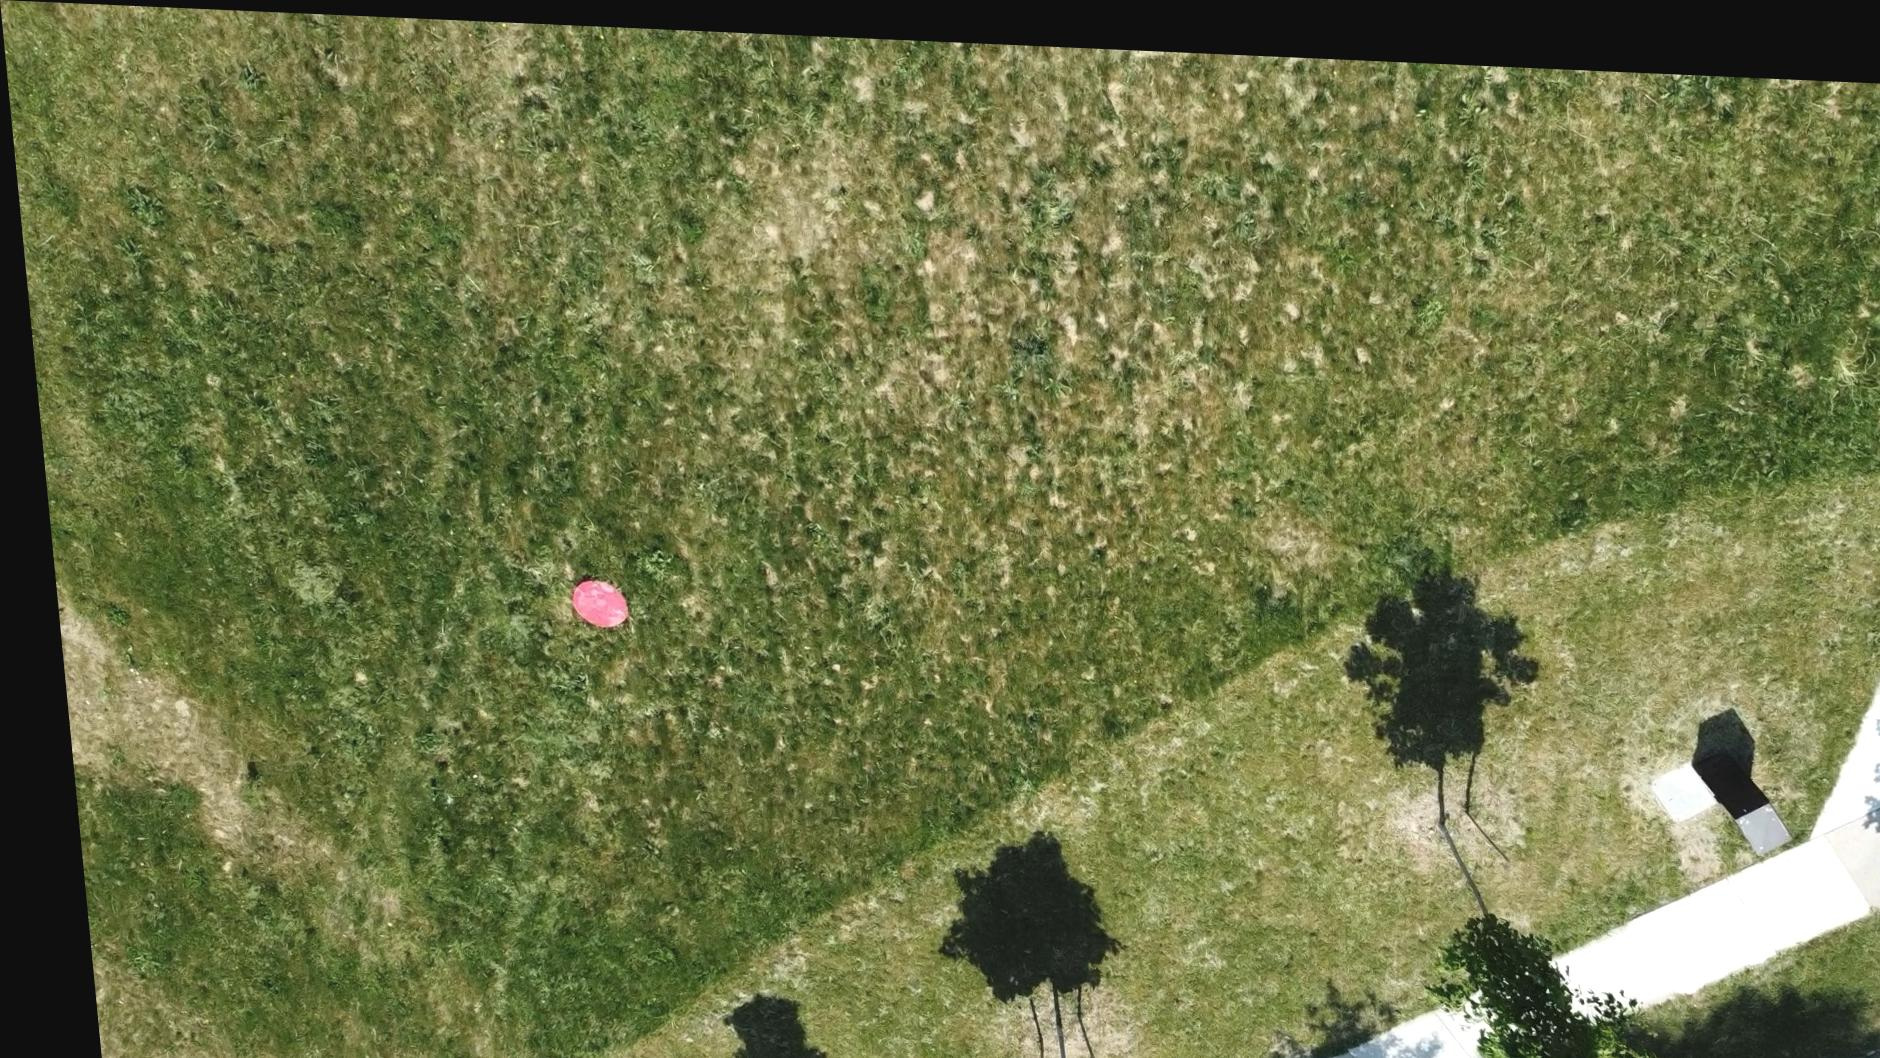Red: (554, 567, 621, 627)
